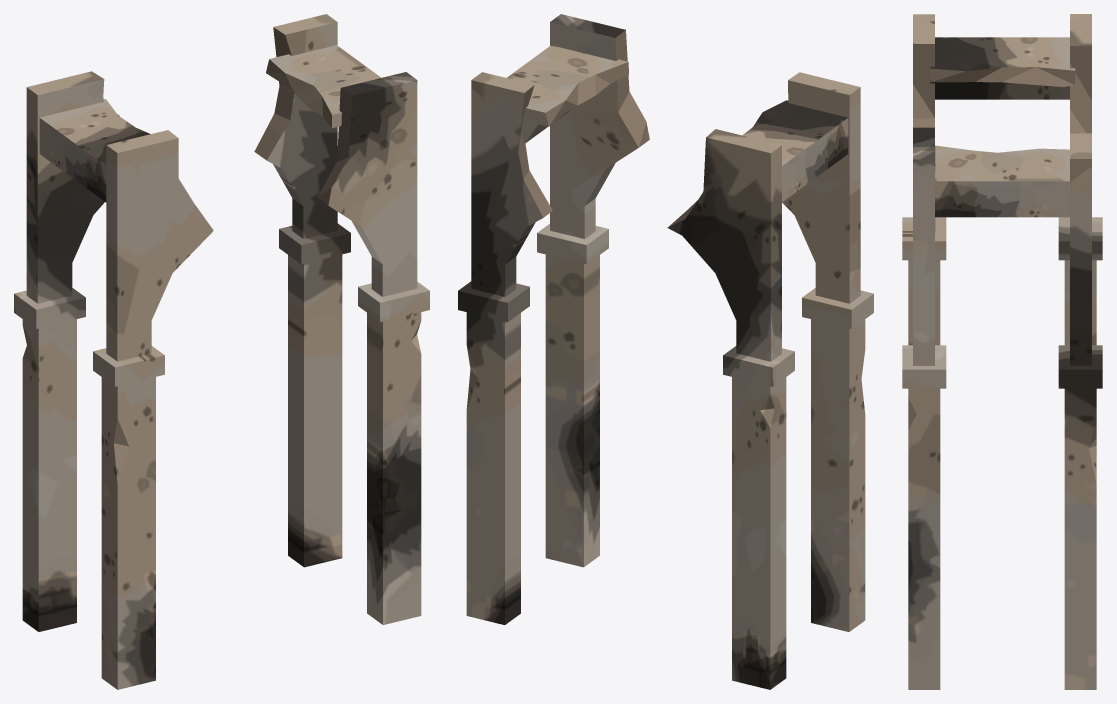
File: SM_Bld_Village_ArchwayBridge_01_Destroyed.glb
3 renders of one model, left to right at view 1: azimuth 30°, elevation 25°; view 2: azimuth 150°, elevation 25°; view 3: azimuth 270°, elevation 25°, orthographic.
Visible parts, largest first — view 1: SM_Bld_Village_ArchwayBridge_01_Destroyed; view 2: SM_Bld_Village_ArchwayBridge_01_Destroyed; view 3: SM_Bld_Village_ArchwayBridge_01_Destroyed.
Boxes of the visible parts, <box> form: SM_Bld_Village_ArchwayBridge_01_Destroyed: <box>14,14,429,689</box>; SM_Bld_Village_ArchwayBridge_01_Destroyed: <box>458,14,873,689</box>; SM_Bld_Village_ArchwayBridge_01_Destroyed: <box>902,14,1102,689</box>.
Bounding box in the file's own units: 4.11 × 6.67 × 2.29.
1 material, 1 textured.
